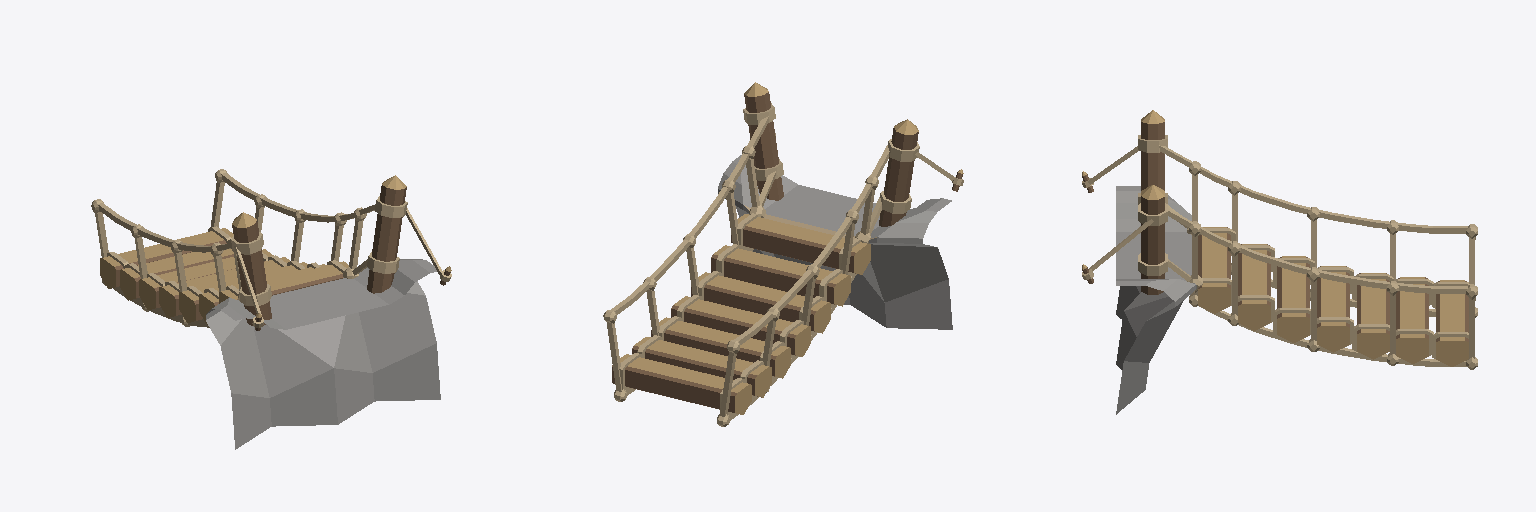
File: Cliff_Prop_Bridge_Rope_End_NO_GRASS.obj
3 views of the same model, side by side, from view 1: azimuth 30°, elevation 25°; view 2: azimuth 150°, elevation 25°; view 3: azimuth 270°, elevation 25° (orthographic).
Visible parts, largest first — view 1: object59, object62, object75, object3, object12, object5, object34, object9, object8, object22, object31; view 2: object59, object3, object5, object6, object8, object9, object12, object34, object75, object62, object22, object31; view 3: object59, object6, object8, object3, object12, object5, object9, object34, object22, object31, object62, object75 (+1 smaller).
Part boxes in pixels (x1,y1,x2,y2): object59: (206, 259, 440, 449); object62: (367, 175, 406, 293); object75: (232, 212, 271, 325); object3: (100, 228, 233, 288); object12: (120, 249, 233, 300); object5: (219, 261, 348, 303); object34: (139, 249, 273, 309); object9: (159, 257, 289, 317); object8: (179, 262, 307, 322); object22: (98, 203, 230, 252); object31: (221, 173, 353, 222); object59: (718, 155, 952, 329); object3: (612, 354, 751, 414); object5: (731, 214, 870, 274); object6: (711, 245, 850, 306); object8: (691, 272, 830, 333); object9: (671, 296, 810, 356); object12: (632, 337, 771, 397); object34: (651, 317, 790, 378); object75: (879, 119, 918, 226); object62: (744, 82, 783, 200); object22: (734, 183, 871, 344); object31: (611, 153, 748, 314); object59: (1116, 186, 1196, 414); object6: (1238, 244, 1270, 330); object8: (1277, 256, 1309, 342); object3: (1436, 280, 1468, 366); object12: (1396, 277, 1428, 363); object5: (1198, 227, 1230, 313); object9: (1317, 266, 1349, 352); object34: (1357, 273, 1389, 359); object22: (1200, 167, 1467, 233); object31: (1199, 227, 1467, 293); object62: (1141, 185, 1164, 294); object75: (1141, 110, 1164, 190).
Bounding box in the file's own units: 2 × 2.02 × 3.34.